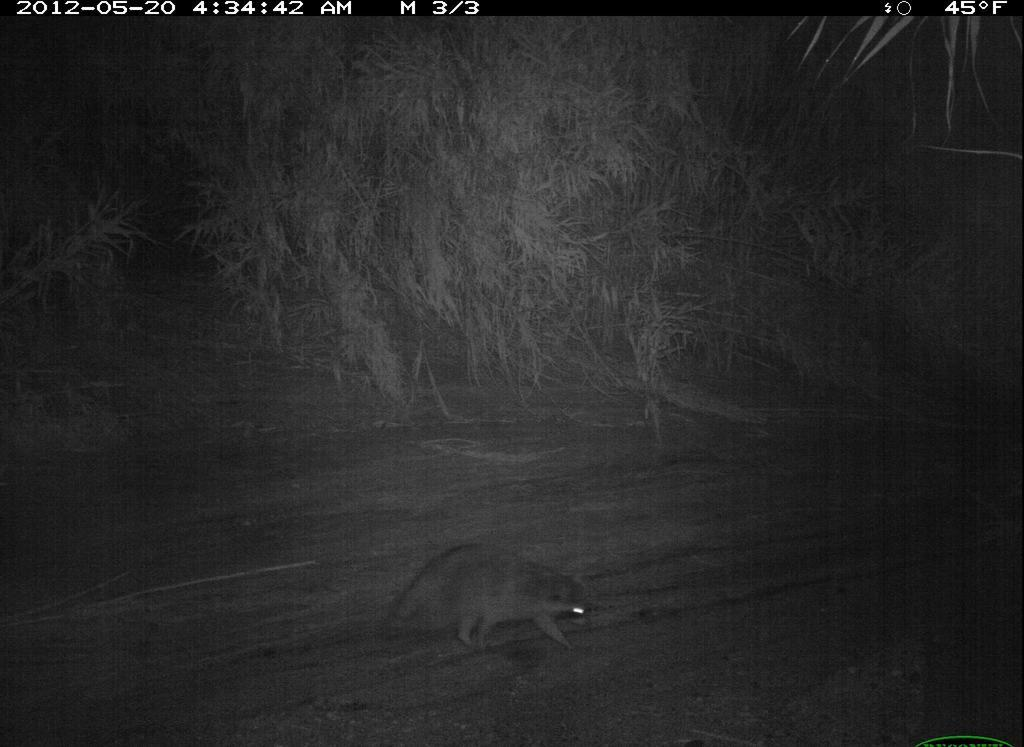raccoon: (372, 529, 605, 669)
